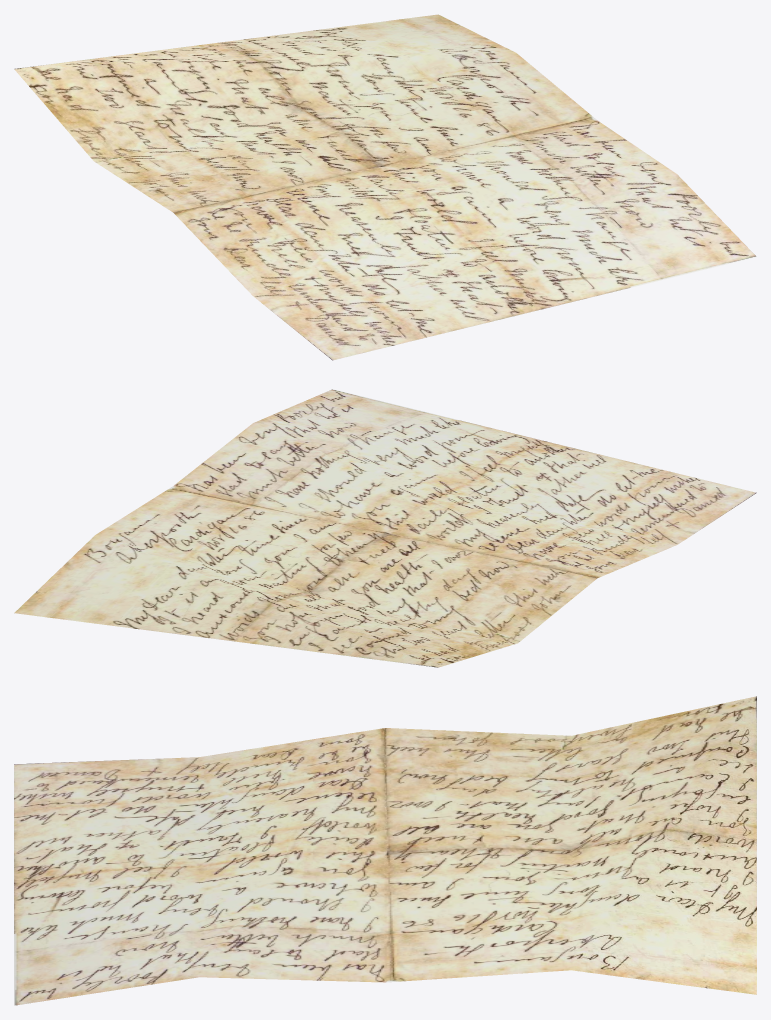
File: MedievalOpenLetter.FBX
3 views of the same model, one above another, from view 1: azimuth 30°, elevation 25°; view 2: azimuth 150°, elevation 25°; view 3: azimuth 270°, elevation 25° (orthographic). The views are drawn at different scales.
Parts seen in each view (by area): view 1: Plane005; view 2: Plane005; view 3: Plane005.
Boxes of the visible parts, box(x1,y1,x2,y2) form: Plane005: box(14, 14, 756, 360); Plane005: box(14, 389, 756, 667); Plane005: box(14, 696, 756, 1005).
Bounding box in the file's own units: 6.12 × 0.804 × 7.95.
1 material, 1 textured.
